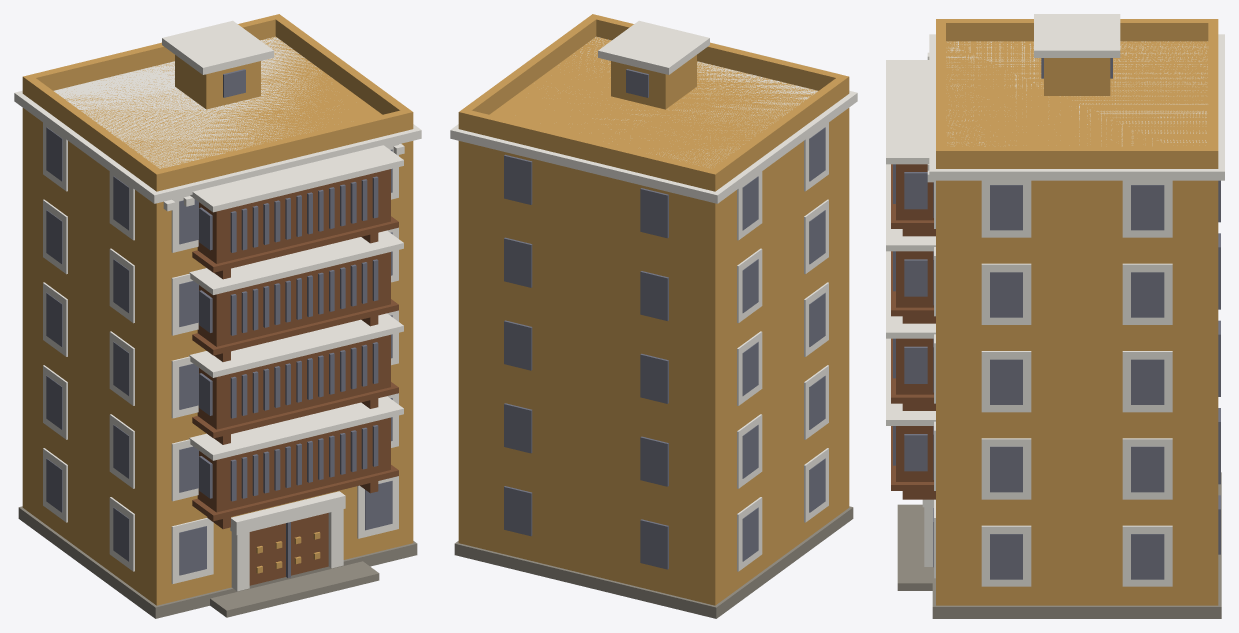
Rendered from house-1x1-5f-quincha-a.glb.
3 views of the same model, side by side, from view 1: azimuth 30°, elevation 25°; view 2: azimuth 150°, elevation 25°; view 3: azimuth 270°, elevation 25° (orthographic). The views are drawn at different scales.
Parts seen in each view (by area): view 1: house-1x1-5f-quincha-a; view 2: house-1x1-5f-quincha-a; view 3: house-1x1-5f-quincha-a.
Boxes of the visible parts, left/top/right/bottom form: house-1x1-5f-quincha-a: left=14, top=14, right=421, bottom=618; house-1x1-5f-quincha-a: left=450, top=14, right=857, bottom=618; house-1x1-5f-quincha-a: left=886, top=14, right=1224, bottom=618.
Bounding box in the file's own units: 0.98 × 1.73 × 1.02.
1 material, 1 textured.
